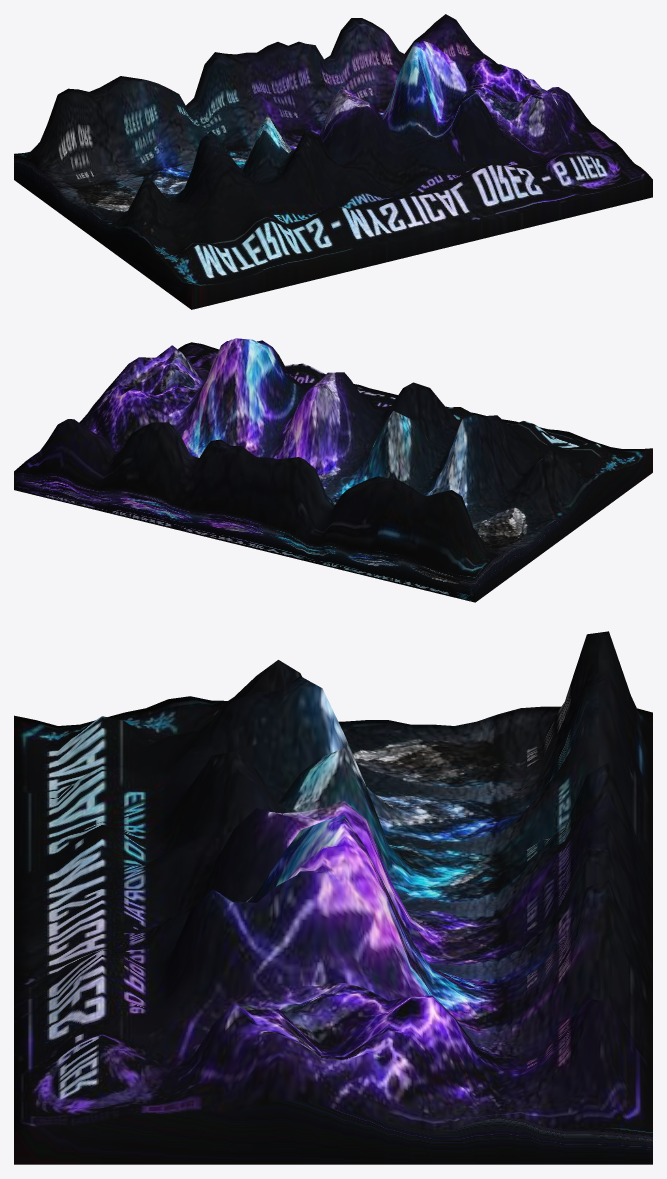
File: MATERIAL_Mystical_Ores_6Tier.glb
3 renders of one model, top to bottom at view 1: azimuth 30°, elevation 25°; view 2: azimuth 150°, elevation 25°; view 3: azimuth 270°, elevation 25°, orthographic. The views are drawn at different scales.
Visible parts, largest first — view 1: MATERIAL_Mystical_Ores_6Tier; view 2: MATERIAL_Mystical_Ores_6Tier; view 3: MATERIAL_Mystical_Ores_6Tier.
Boxes of the visible parts, bbox=[...] form: MATERIAL_Mystical_Ores_6Tier: bbox=[14, 14, 652, 309]; MATERIAL_Mystical_Ores_6Tier: bbox=[14, 338, 652, 602]; MATERIAL_Mystical_Ores_6Tier: bbox=[14, 631, 652, 1164].
Size of the model in its own units: 2 by 0.51 by 1.33.
1 material, 1 textured.
